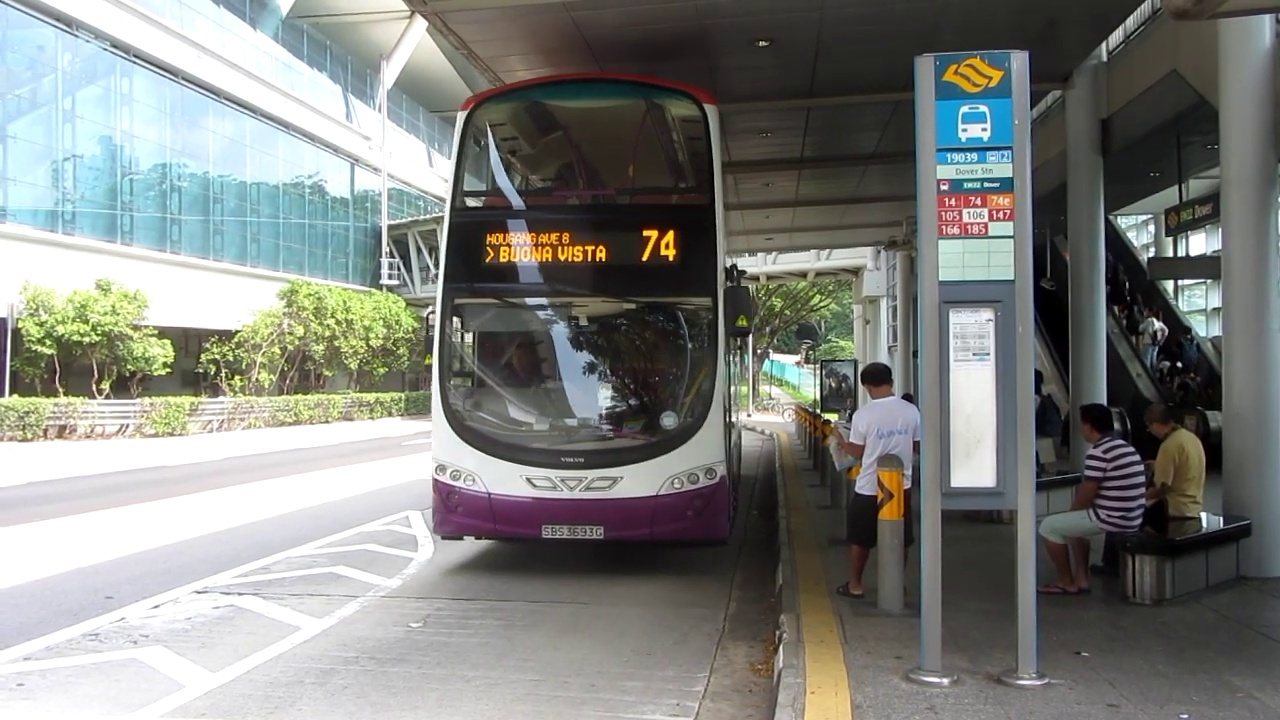bus panel: (479, 226, 684, 270)
